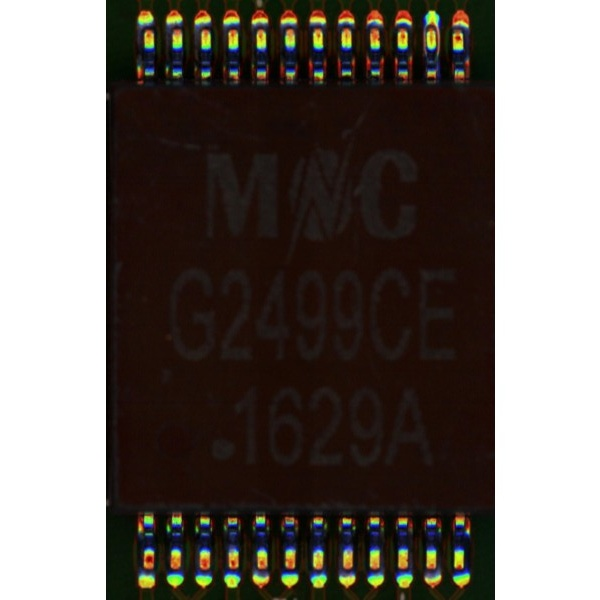Bad_qiaojiao: (435, 25, 440, 60), (422, 25, 426, 57)
